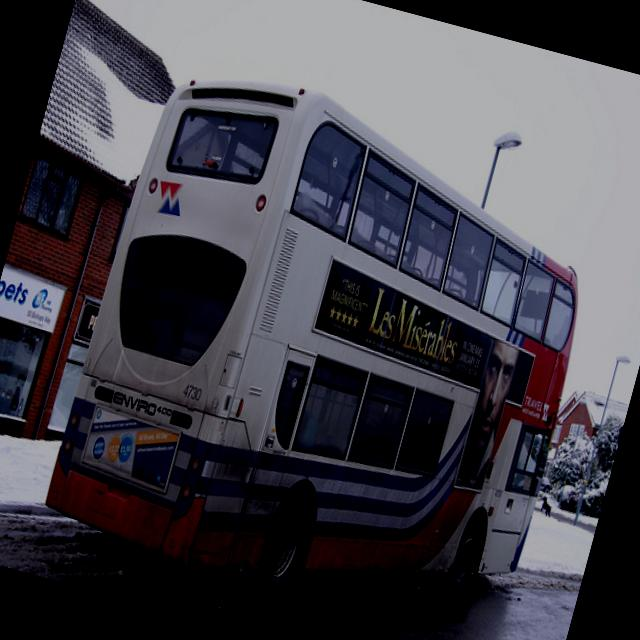Vehicle: (37, 48, 624, 640)
